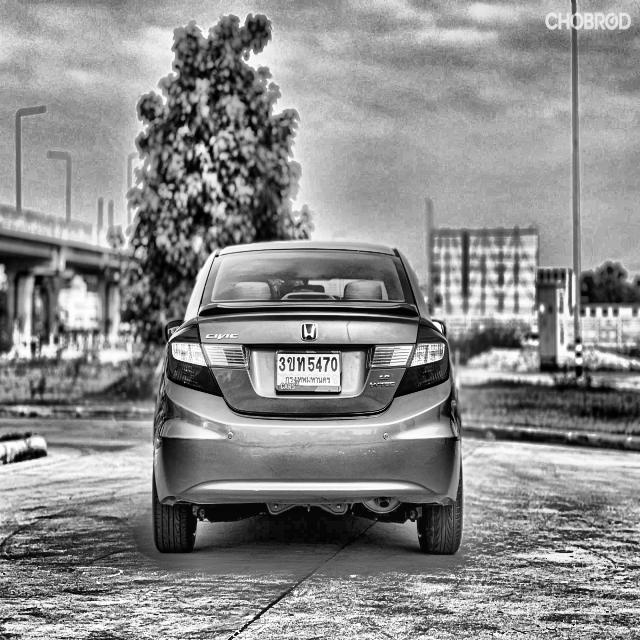license-plate: (273, 345, 345, 398)
